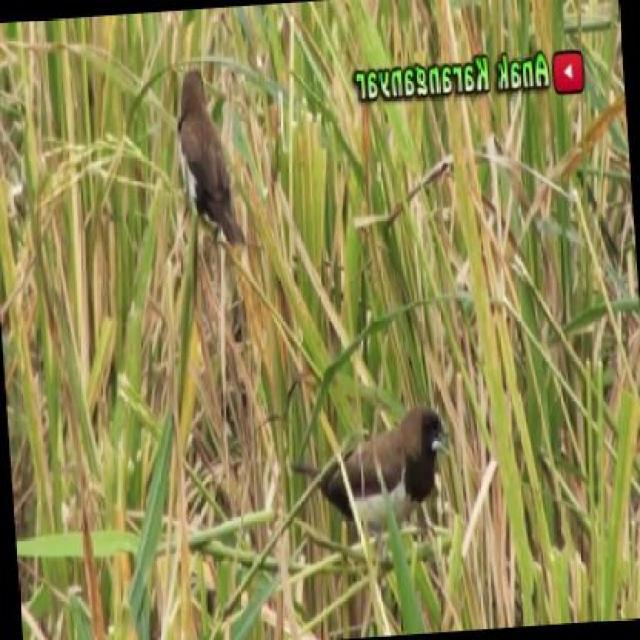Bird: (288, 404, 445, 535), (174, 67, 248, 251)
